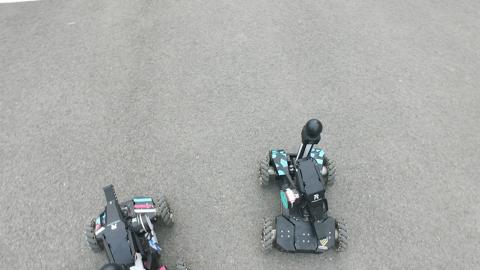chariot: (240, 111, 363, 265)
